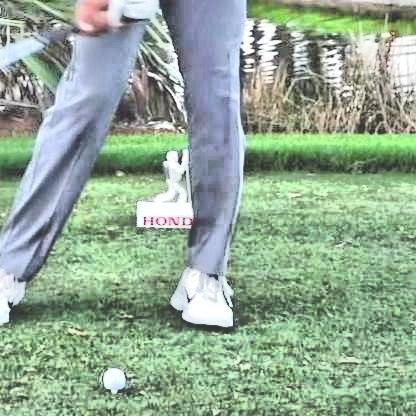golfball: (99, 365, 125, 389)
